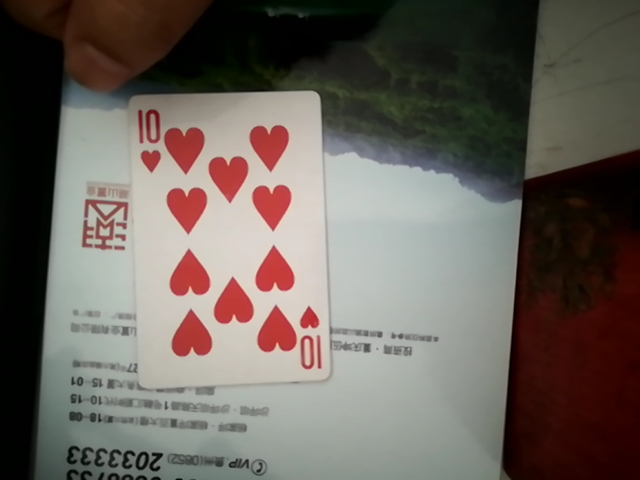hx 10: (112, 82, 335, 394)
